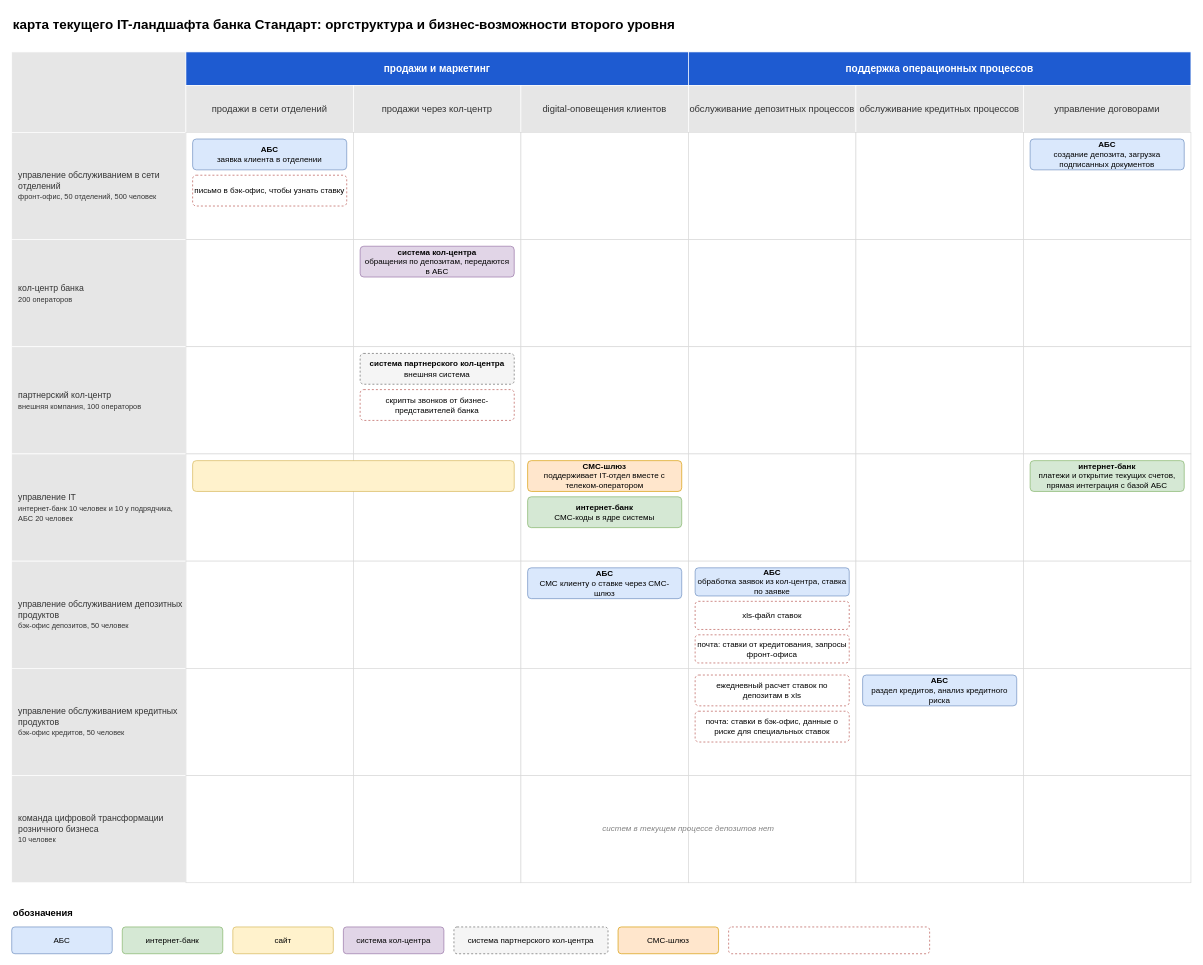
This 1203x965 diagram has some shape labels left out. The shapes that lost their labels are listed below. From the top down, each one's centre as x and y in pixels, then its label:
At point 98,91: "оргструктура / бизнес-возможности".
At point 353,475: "сайт только маркетинговая информация".
At point 829,940: "ручная работа: почта, xls-файлы, скрипты".
